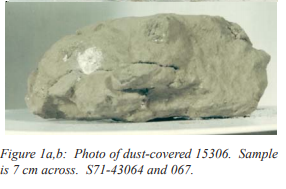Breccia: (21, 14, 268, 117), (117, 33, 187, 82)
